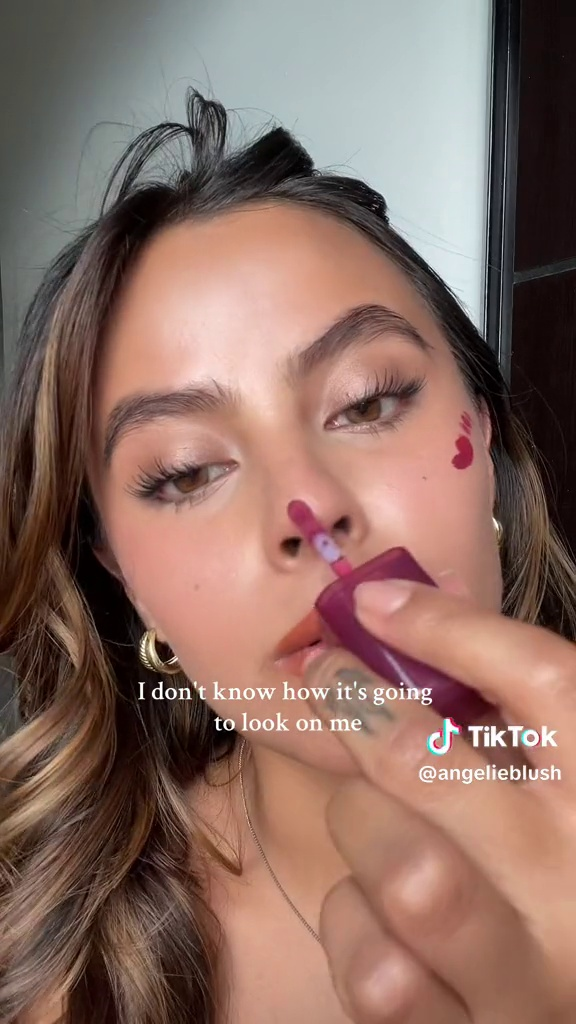train' :'yolo_data/train/images',: (286, 483, 507, 734)
